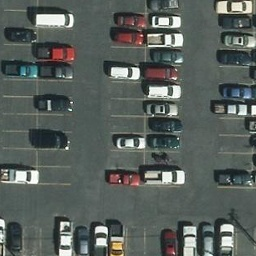car: (1, 166, 39, 184), (145, 168, 184, 184), (37, 132, 70, 150), (38, 95, 71, 113), (218, 171, 256, 185), (108, 171, 141, 187), (9, 220, 24, 254), (59, 222, 74, 256), (109, 222, 124, 255), (3, 61, 36, 76), (145, 84, 182, 97), (107, 30, 144, 43), (109, 14, 146, 27), (149, 14, 186, 27), (147, 32, 184, 45), (149, 49, 186, 62), (143, 65, 180, 78), (217, 84, 254, 97), (210, 102, 247, 115), (215, 50, 252, 63), (219, 33, 256, 46), (220, 222, 234, 256), (1, 28, 37, 41), (36, 14, 72, 27), (36, 45, 72, 58), (217, 15, 254, 27), (40, 65, 74, 78), (108, 66, 142, 79), (183, 225, 197, 256), (203, 220, 215, 256), (115, 136, 148, 148), (148, 136, 181, 148), (151, 119, 184, 131), (144, 102, 177, 114), (77, 226, 90, 256), (95, 226, 108, 256), (162, 233, 176, 256)
